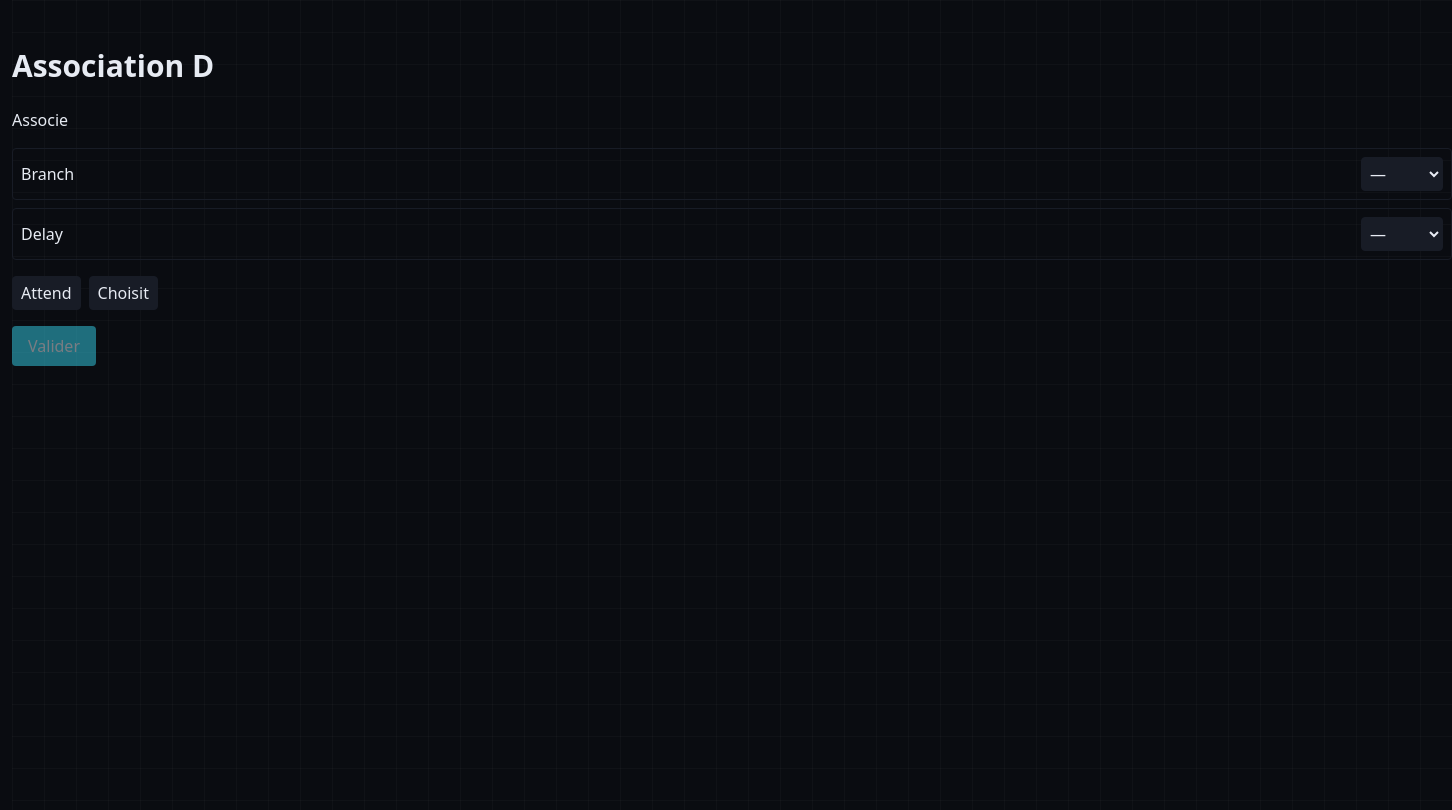
Test: ExerciseWorkspace › type D : associer puis envoyer produit le bon corps
Select "Choisit" in the dropdown named "Associer Branch à" at (1402, 174), box [1361,157,1443,191]
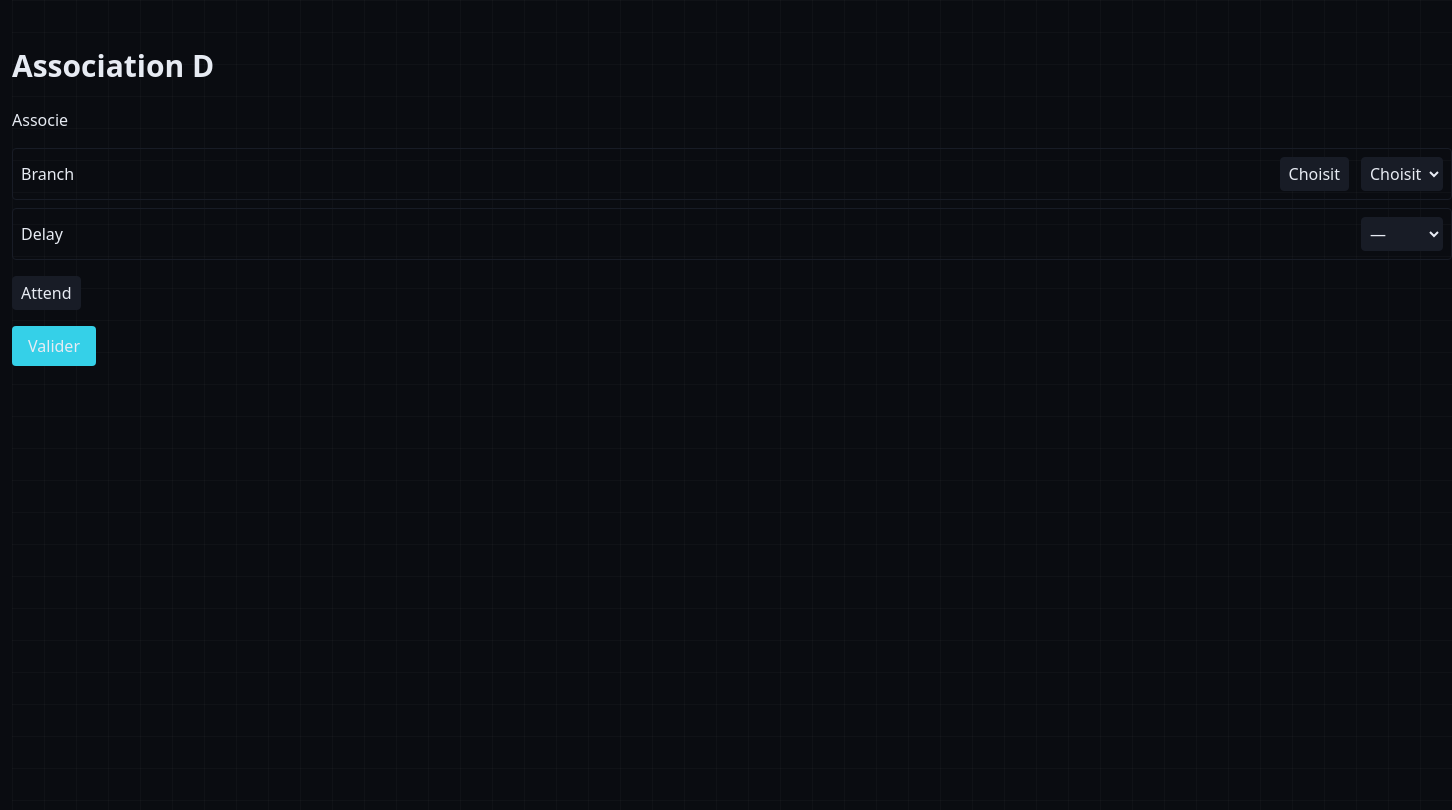
Now the button "Valider" is enabled, box [12,326,96,366]
Select "Attend" in the dropdown named "Associer Delay à" at (1402, 234), box [1361,217,1443,251]
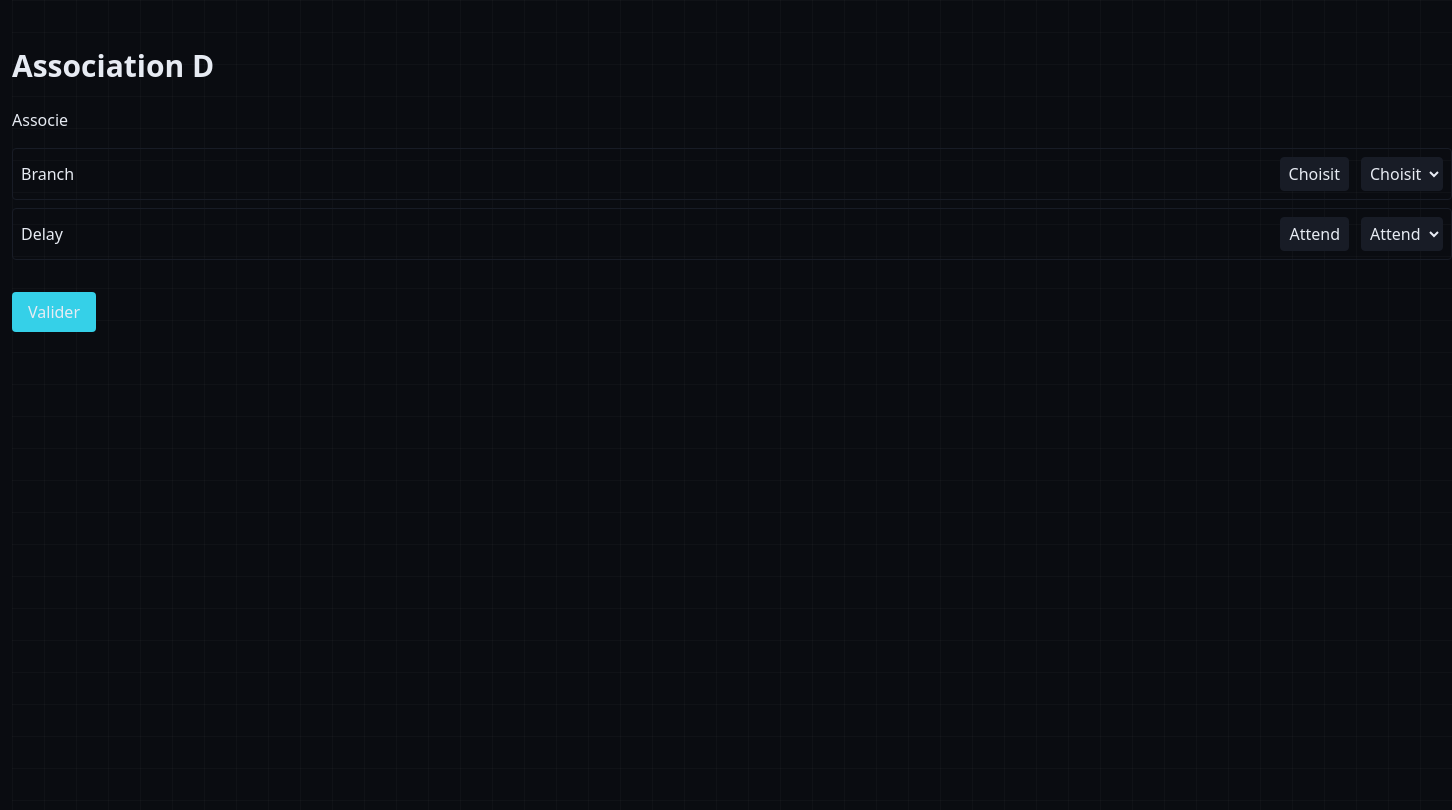
Click the button "Valider" at (54, 312), box [12,292,96,332]
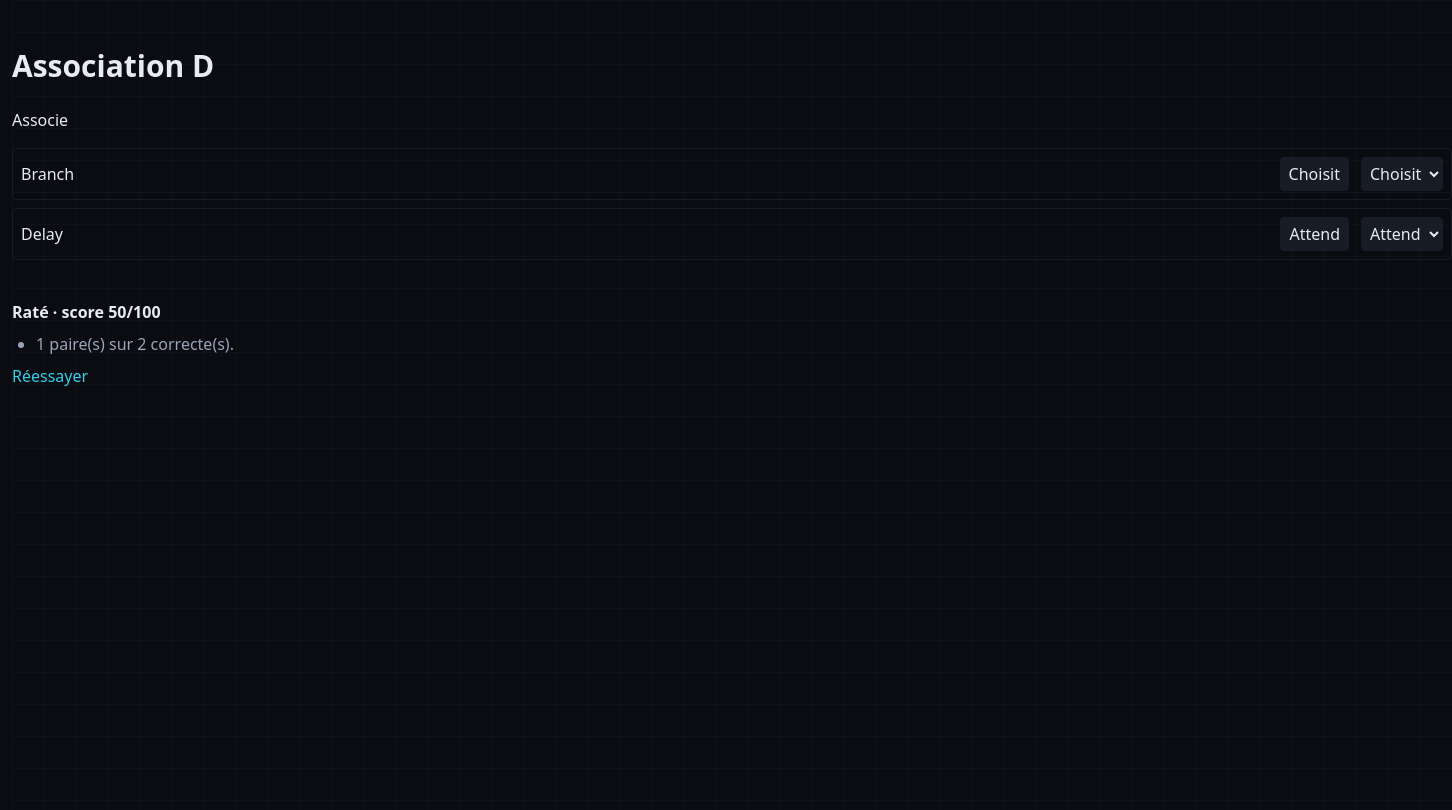
Now the text "Raté · score 50/100" is shown, box [12,301,160,323]
Now the list item "1 paire(s) sur 2 correcte(s)." is shown, box [36,333,234,355]
